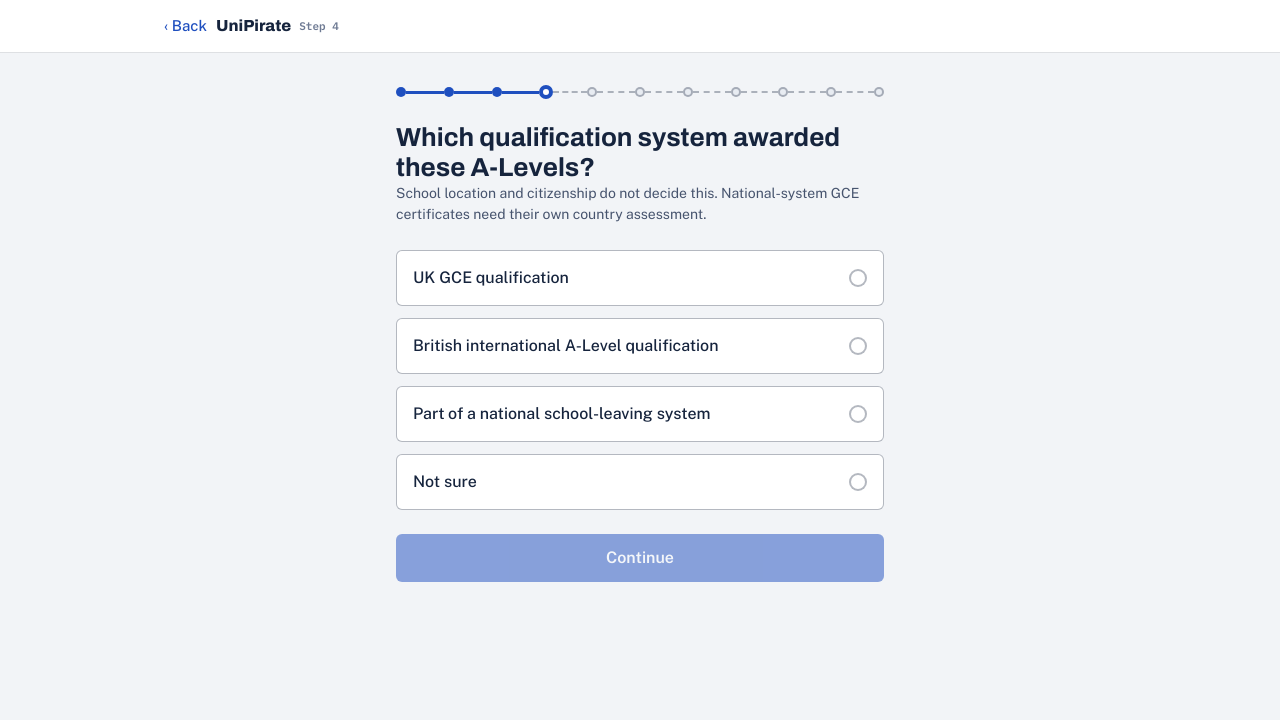
Test: mounted checker selects uk and retains it through Continue, Back and draft remount
Check: the button "Continue" is disabled, box top-left (396, 534), bottom-right (884, 582)
Click the button "UK GCE qualification" at (491, 278), box top-left (396, 250), bottom-right (884, 306)
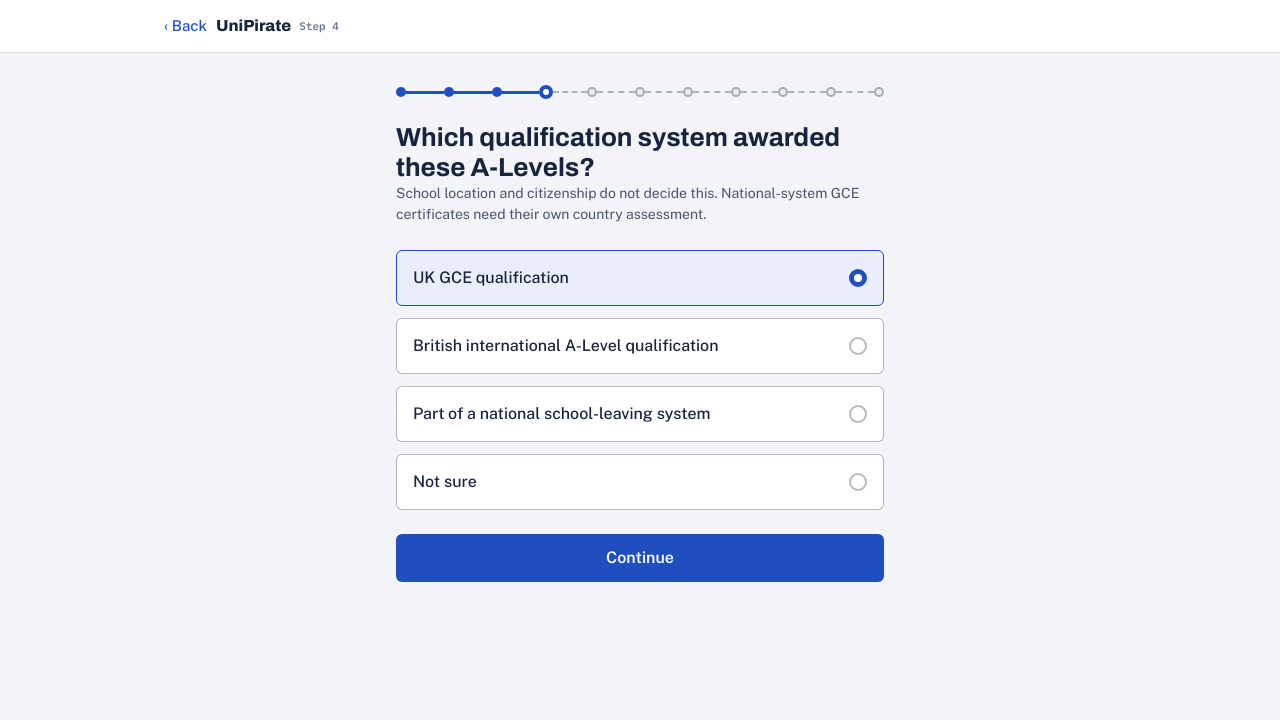
Check: the button "Continue" is enabled
Click the button "Continue" at (640, 558), box top-left (396, 534), bottom-right (884, 582)
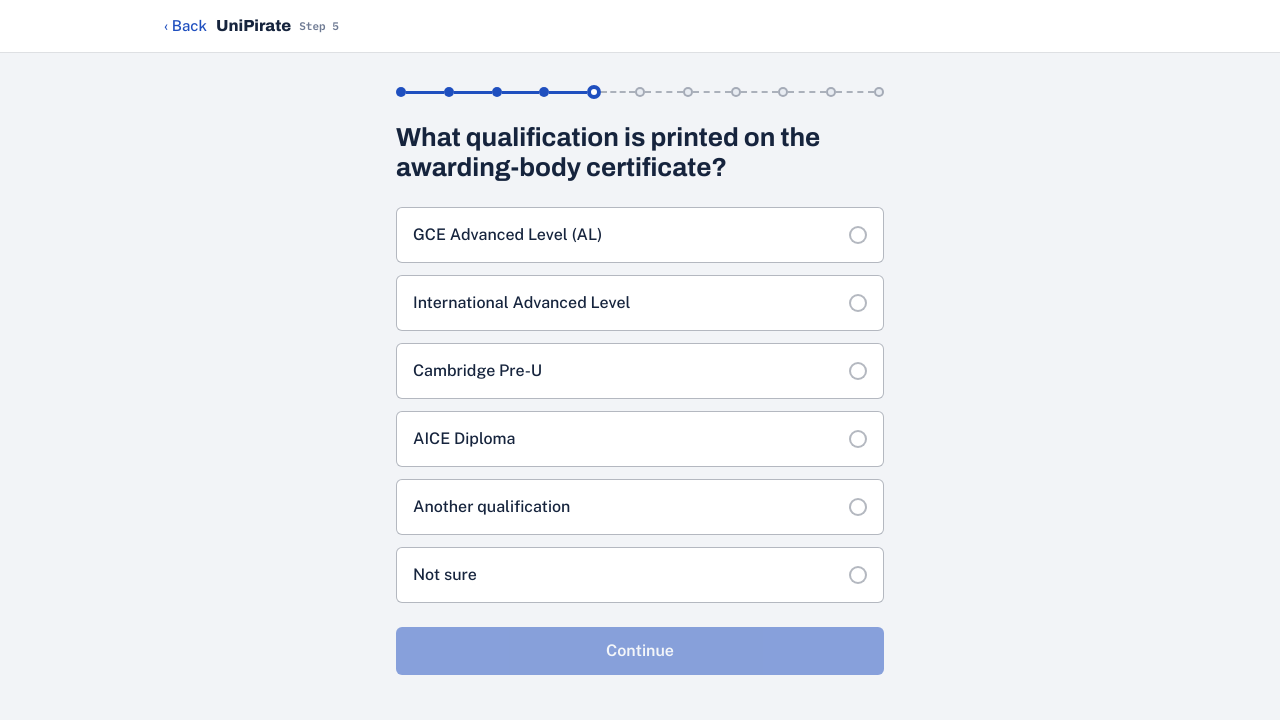
Check: the heading shows "printed on", box top-left (396, 123), bottom-right (820, 181)
Click the button "‹ Back" at (186, 26), box top-left (164, 4), bottom-right (208, 48)
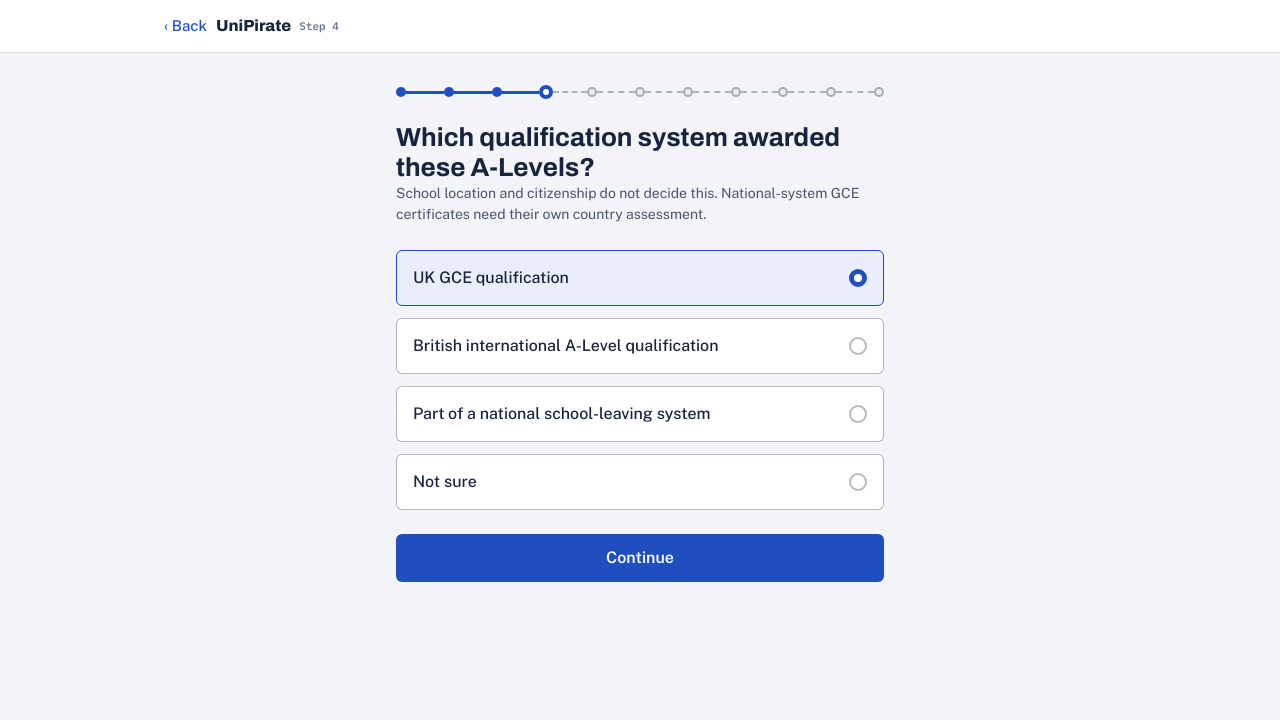
Check: the button "Continue" is enabled, box top-left (396, 534), bottom-right (884, 582)
